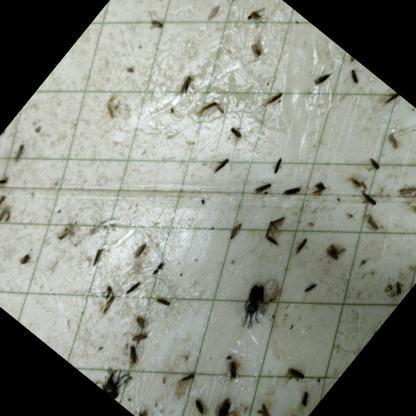prays_oleae: (236, 30, 276, 72), (87, 276, 126, 316), (236, 0, 276, 37), (317, 230, 354, 269), (277, 354, 314, 392), (356, 208, 390, 242), (169, 66, 202, 101), (378, 122, 412, 155), (206, 149, 238, 184), (284, 230, 315, 266), (136, 12, 168, 45), (195, 392, 239, 416), (338, 62, 369, 95), (215, 355, 246, 388), (192, 94, 223, 126), (116, 342, 147, 373), (169, 367, 199, 399), (258, 84, 288, 113), (388, 176, 416, 207), (82, 238, 110, 268), (260, 207, 288, 236), (340, 168, 368, 197), (276, 179, 304, 207), (4, 138, 31, 167), (386, 274, 413, 303), (291, 384, 317, 414), (221, 121, 249, 148), (356, 186, 384, 213), (309, 66, 335, 94), (126, 236, 152, 264), (185, 392, 215, 416), (248, 394, 280, 416), (258, 229, 284, 256), (222, 217, 247, 245), (360, 152, 386, 178), (300, 274, 324, 301), (266, 153, 290, 179), (120, 276, 144, 301), (127, 326, 150, 350), (152, 292, 174, 315), (380, 90, 402, 112), (128, 312, 150, 334), (403, 177, 416, 210), (252, 179, 272, 199), (337, 50, 358, 69), (135, 402, 160, 416), (0, 173, 11, 192), (226, 0, 255, 7)
